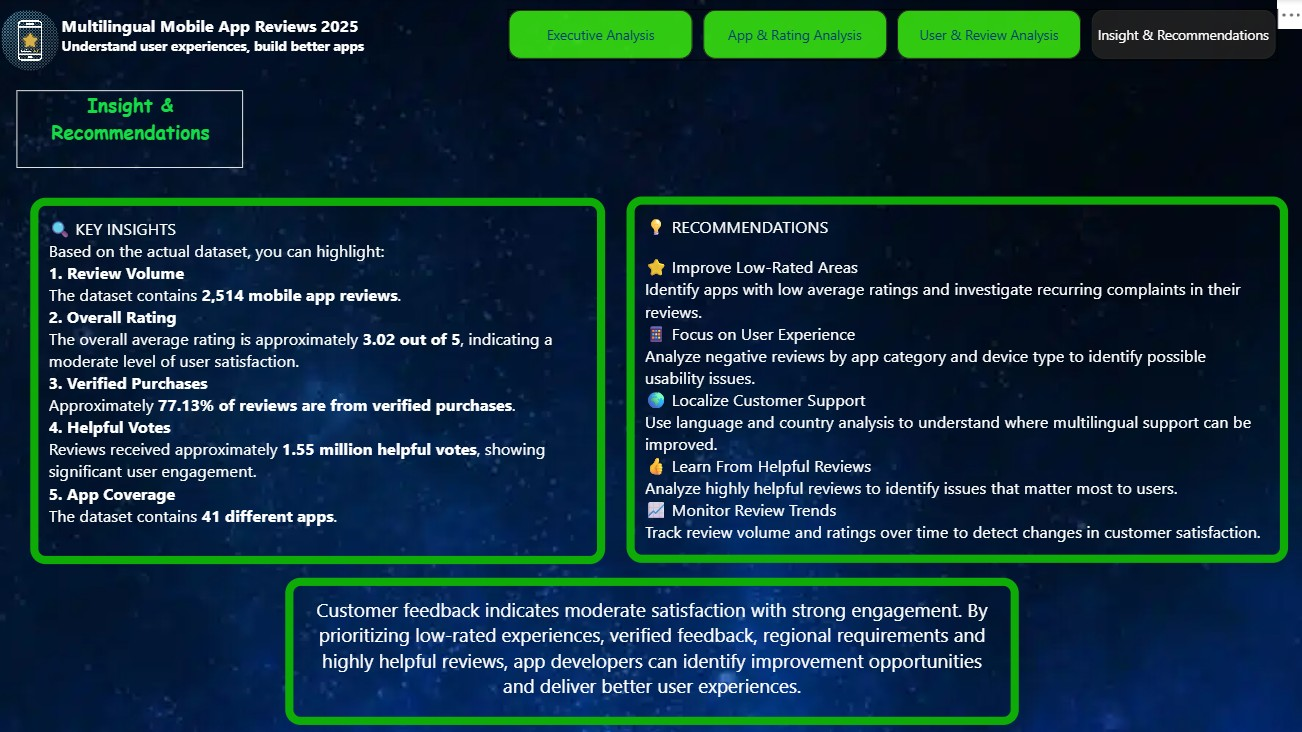

The dashboard page shown, as its layout file describes it:
{"tool":"powerbi","page":{"name":"Insight & Recommendations ","canvas":[1280,720],"ordinal":4},"visuals":[{"type":"image","box":[0,0,1280,720],"z":0},{"type":"image","box":[2.7,11,56.3,59],"z":1000},{"type":"textbox","box":[56.3,9.6,318.4,52.1],"z":2000},{"type":"pageNavigator","box":[497.7,9.8,753.3,50.1],"z":3000},{"type":"textbox","title":"Insight & Recommendations","box":[17.1,89.3,221.3,75.8],"z":4000},{"type":"textbox","box":[30.6,194.4,562.5,358.3],"z":5000},{"type":"textbox","box":[613.9,193.2,646.9,358.3],"z":6000},{"type":"textbox","box":[280,566.2,717.8,144.3],"z":7000}]}

Visuals, with their boxes on the page's 1280x720 design canvas (x1, y1, x2, y2). These are canvas units, not pixel positions in the 1302x732 screenshot, which may show the page scaled, cropped or inside an application window:
image: [0, 0, 1280, 720]
image: [3, 11, 59, 70]
textbox: [56, 10, 375, 62]
pageNavigator: [498, 10, 1251, 60]
"Insight & Recommendations" textbox: [17, 89, 238, 165]
textbox: [31, 194, 593, 553]
textbox: [614, 193, 1261, 552]
textbox: [280, 566, 998, 710]
